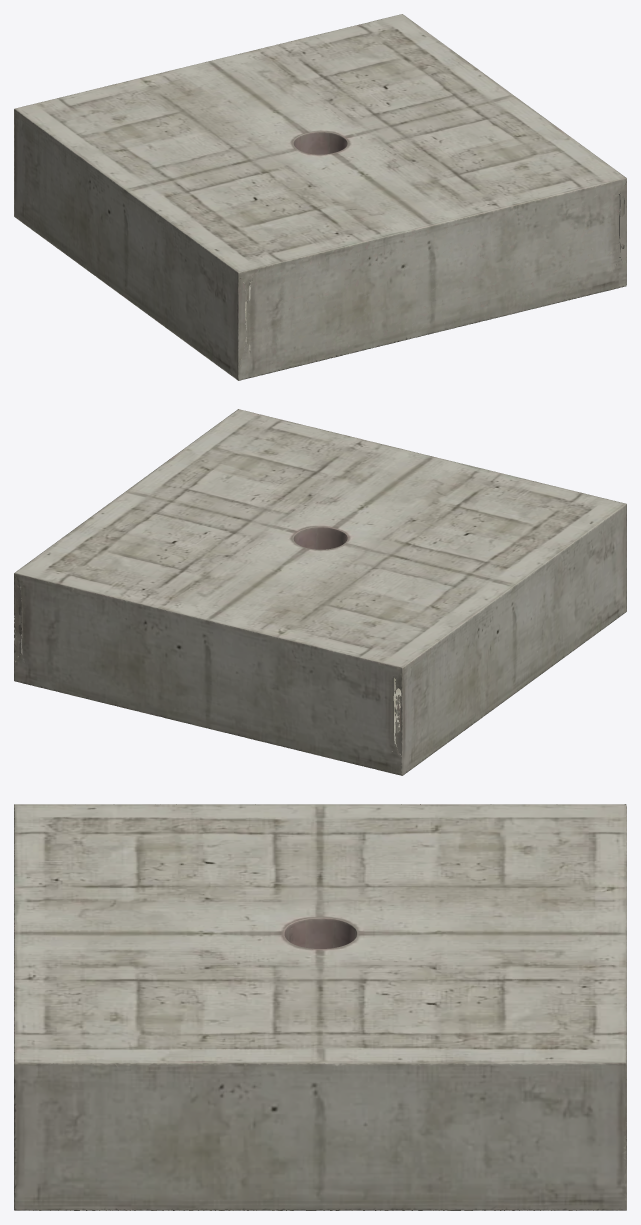
Rendered from balcony_floor.raw.glb.
3 views of the same model, one above another, from view 1: azimuth 30°, elevation 25°; view 2: azimuth 150°, elevation 25°; view 3: azimuth 270°, elevation 25° (orthographic). The views are drawn at different scales.
Visible parts, largest first — view 1: world; view 2: world; view 3: world.
Part boxes in pixels (x1,y1,x2,y2): world: [14, 14, 626, 380]; world: [14, 409, 626, 775]; world: [14, 804, 626, 1210].
Size of the model in its own units: 1 by 0.2669 by 1.
Materials: 1 (1 with a texture image).
